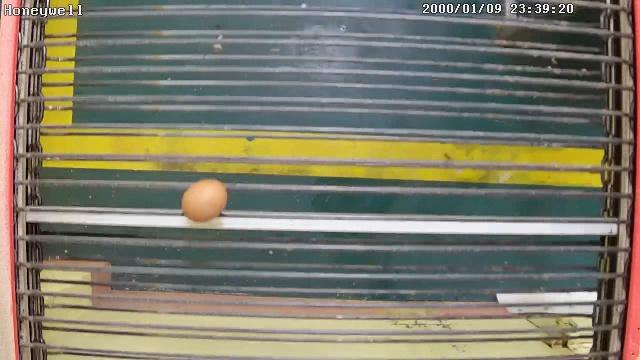egg: (180, 176, 230, 224)
